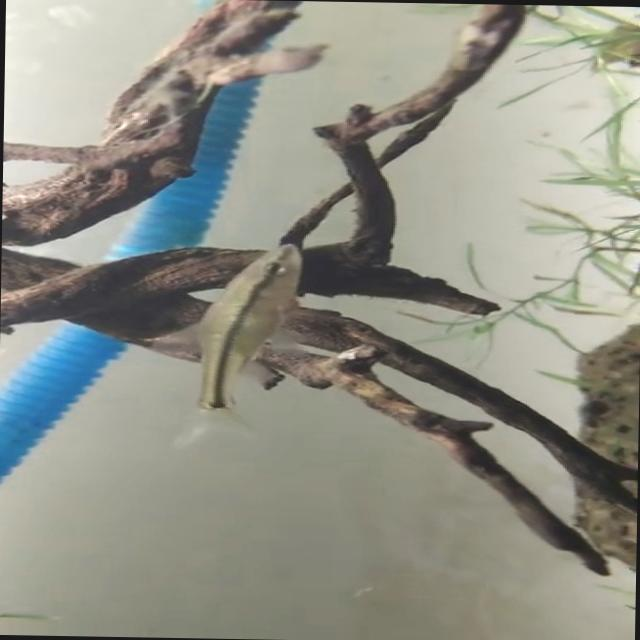Cakil Baligi: (169, 238, 307, 451)
